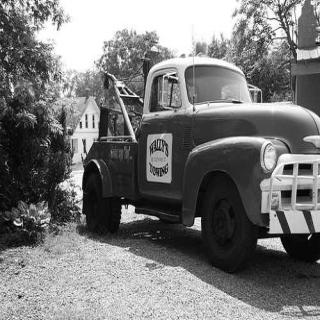Towing_truck: (80, 52, 319, 273)
